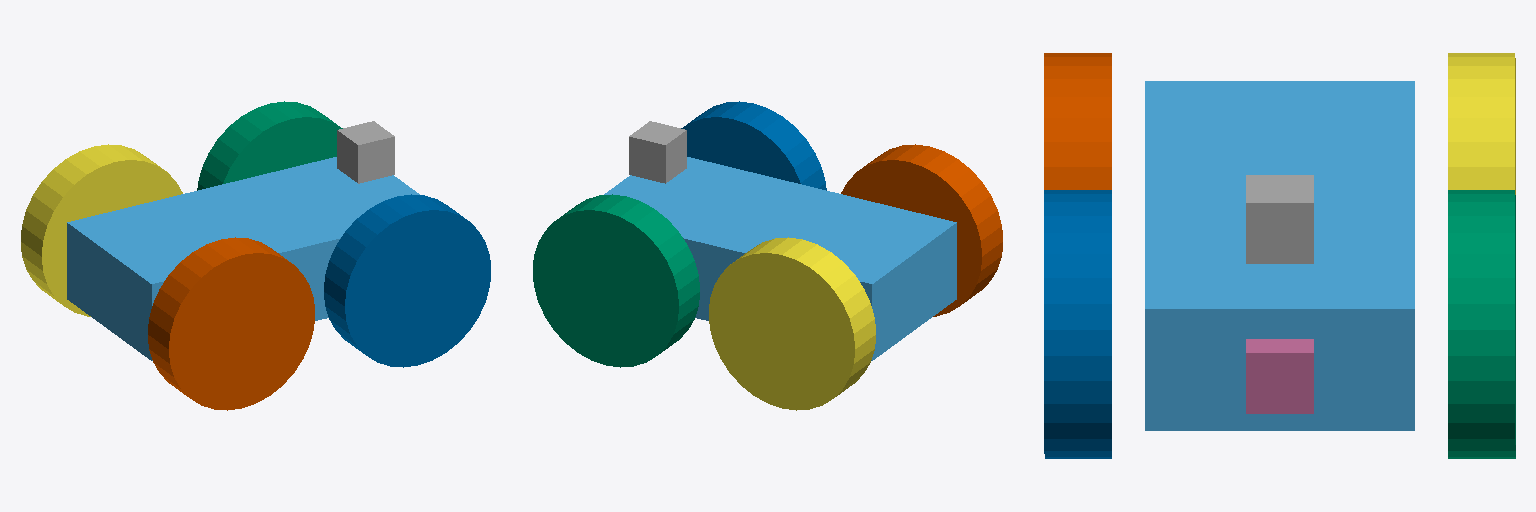
The robot description file, URDF, robot "bocbot":
<?xml version="1.0" ?>
<!-- =================================================================================== -->
<!-- |    This document was autogenerated by xacro from [local-path]/colcon_ws/src/bocbot/urdf/bocbot.urdf.xacro | -->
<!-- |    EDITING THIS FILE BY HAND IS NOT RECOMMENDED                                 | -->
<!-- =================================================================================== -->
<robot name="bocbot">
  <!--skid_steer_drive_controller-->
  <gazebo>
    <plugin filename="libgazebo_ros_diff_drive.so" name="skid_steer_drive_controller">
      <ros>
        <namespace>/bocbot</namespace>
        <argument>/cmd_vel:=mr_cme_vel</argument>
        <argument>/odom:=odom</argument>
      </ros>
      <update_rate>100.0</update_rate>
      <num_wheel_pairs>2</num_wheel_pairs>
      <odometry_frame>odom</odometry_frame>
      <left_joint>front_left_wheel_joint</left_joint>
      <left_joint>back_left_wheel_joint</left_joint>
      <wheel_separation>0.4</wheel_separation>
      <wheel_diameter>0.2</wheel_diameter>
      <right_joint>front_right_wheel_joint</right_joint>
      <right_joint>back_right_wheel_joint</right_joint>
      <wheel_separation>0.4</wheel_separation>
      <wheel_diameter>0.2</wheel_diameter>
      <robot_base_frame>robot_footprint</robot_base_frame>
      <max_wheel_torque>20</max_wheel_torque>
      <publish_odom>true</publish_odom>
      <publish_odom_tf>true</publish_odom_tf>
      <publish_wheel_tf>true</publish_wheel_tf>
      <!-- 0 is encoder, 1 is world (ground truth) -->
      <odometry_source>1</odometry_source>
    </plugin>
  </gazebo>
  <!-- camera -->
  <gazebo reference="camera">
    <sensor name="camera_sensor" type="camera">
      <update_rate>30.0</update_rate>
      <always_on>1</always_on>
      <camera name="camera">
        <horizontal_fov>1.3962634</horizontal_fov>
        <image>
          <width>800</width>
          <height>800</height>
          <format>R8G8B8</format>
        </image>
        <clip>
          <near>0.02</near>
          <far>300</far>
        </clip>
        <distortion>
          <k1>0.0</k1>
          <k2>0.0</k2>
          <k3>0.0</k3>
          <p1>0.0</p1>
          <p2>0.0</p2>
          <center>0.5 0.5</center>
        </distortion>
      </camera>
      <plugin filename="libgazebo_ros_camera.so" name="camera_controller">
        <ros>
          <namespace>/bocbot</namespace>
          <argument>camera/image_raw:=/bocbot/camera/image</argument>
          <argument>camera/camera_info:=/bocbot/camera/image/camera_info</argument>
        </ros>
        <camera_name>camera</camera_name>
        <frame_name>camera</frame_name>
        <hack_baseline>0.07</hack_baseline>
      </plugin>
    </sensor>
  </gazebo>
  <!-- hokuyo -->
  <gazebo reference="hokuyo">
    <sensor name="head_hokuyo_sensor" type="ray">
      <pose>0 0 0 0 0 0</pose>
      <visualize>true</visualize>
      <update_rate>40</update_rate>
      <ray>
        <scan>
          <horizontal>
            <samples>720</samples>
            <resolution>1</resolution>
            <min_angle>-1.570796</min_angle>
            <max_angle>1.570796</max_angle>
          </horizontal>
        </scan>
        <range>
          <min>0.10</min>
          <max>30.0</max>
          <resolution>0.01</resolution>
        </range>
        <noise>
          <type>gaussian</type>
          <!-- Noise parameters based on published spec for Hokuyo laser
                achieving "+-30mm" accuracy at range < 10m.  A mean of 0.0m and
                stddev of 0.01m will put 99.7% of samples within 0.03m of the true
                reading. -->
          <mean>0.0</mean>
          <stddev>0.01</stddev>
        </noise>
      </ray>
      <update_rate>30</update_rate>
      <plugin filename="libgazebo_ros_ray_sensor.so" name="gazebo_ros_head_hokuyo_controller">
        <ros>
          <namespace>/bocbot</namespace>
          <argument>~/out:=scan</argument>
        </ros>
        <output_type>sensor_msgs/LaserScan</output_type>
      </plugin>
    </sensor>
  </gazebo>
  <link name="robot_footprint"/>
  <joint name="robot_footprint_joint" type="fixed">
    <origin rpy="0 0 0" xyz="0 0 0"/>
    <parent link="robot_footprint"/>
    <child link="chassis"/>
  </joint>
  <link name="chassis">
    <pose>0 0 0.1 0 0 0</pose>
    <inertial>
      <mass value="15.0"/>
      <origin rpy=" 0 0 0" xyz="0.0 0 0"/>
      <inertia ixx="0.1" ixy="0" ixz="0" iyy="0.1" iyz="0" izz="0.1"/>
    </inertial>
    <collision name="collision">
      <origin rpy=" 0 0 0" xyz="0 0 0"/>
      <geometry>
        <box size=".4 .2 .1"/>
      </geometry>
    </collision>
    <visual name="chassis_visual">
      <origin rpy=" 0 0 0" xyz="0 0 0"/>
      <geometry>
        <box size=".4 .2 .1"/>
      </geometry>
    </visual>
  </link>
  <link name="front_left_wheel">
    <inertial>
      <mass value="5.0"/>
      <origin rpy=" 0 1.5707 1.5707" xyz="0.0 0 0"/>
      <inertia ixx="0.1" ixy="0" ixz="0" iyy="0.1" iyz="0" izz="0.1"/>
    </inertial>
    <visual>
      <origin rpy=" 0 1.5707 1.5707" xyz="0.0 0 0"/>
      <geometry>
        <cylinder length="0.05" radius="0.1"/>
      </geometry>
    </visual>
    <collision>
      <origin rpy=" 0 1.5707 1.5707" xyz="0.0 0 0"/>
      <geometry>
        <cylinder length="0.05" radius="0.1"/>
      </geometry>
    </collision>
  </link>
  <link name="back_left_wheel">
    <inertial>
      <mass value="5.0"/>
      <origin rpy=" 0 1.5707 1.5707" xyz="0.0 0 0"/>
      <inertia ixx="0.1" ixy="0" ixz="0" iyy="0.1" iyz="0" izz="0.1"/>
    </inertial>
    <visual>
      <origin rpy=" 0 1.5707 1.5707" xyz="0.0 0 0"/>
      <geometry>
        <cylinder length="0.05" radius="0.1"/>
      </geometry>
    </visual>
    <collision>
      <origin rpy=" 0 1.5707 1.5707" xyz="0.0 0 0"/>
      <geometry>
        <cylinder length="0.05" radius="0.1"/>
      </geometry>
    </collision>
  </link>
  <link name="front_right_wheel">
    <inertial>
      <mass value="5.0"/>
      <origin rpy=" 0 1.5707 1.5707" xyz="0.0 0 0"/>
      <inertia ixx="0.1" ixy="0" ixz="0" iyy="0.1" iyz="0" izz="0.1"/>
    </inertial>
    <visual>
      <origin rpy=" 0 1.5707 1.5707" xyz="0.0 0 0"/>
      <geometry>
        <cylinder length="0.05" radius="0.1"/>
      </geometry>
    </visual>
    <collision>
      <origin rpy=" 0 1.5707 1.5707" xyz="0.0 0 0"/>
      <geometry>
        <cylinder length="0.05" radius="0.1"/>
      </geometry>
    </collision>
  </link>
  <link name="back_right_wheel">
    <inertial>
      <mass value="5.0"/>
      <origin rpy=" 0 1.5707 1.5707" xyz="0.0 0 0"/>
      <inertia ixx="0.1" ixy="0" ixz="0" iyy="0.1" iyz="0" izz="0.1"/>
    </inertial>
    <visual>
      <origin rpy=" 0 1.5707 1.5707" xyz="0.0 0 0"/>
      <geometry>
        <cylinder length="0.05" radius="0.1"/>
      </geometry>
    </visual>
    <collision>
      <origin rpy=" 0 1.5707 1.5707" xyz="0.0 0 0"/>
      <geometry>
        <cylinder length="0.05" radius="0.1"/>
      </geometry>
    </collision>
  </link>
  <link name="camera">
    <inertial>
      <mass value="0.1"/>
      <origin rpy=" 0 0 0" xyz="0.05 0.05 0.05"/>
      <inertia ixx="1e-6" ixy="0" ixz="0" iyy="1e-6" iyz="0" izz="1e-6"/>
    </inertial>
    <visual name="camera_visual">
      <origin rpy="0 0 0" xyz="0 0 0"/>
      <geometry>
        <box size="0.05 0.05 0.05"/>
      </geometry>
    </visual>
    <collision name="camera_colision">
      <origin rpy="0 0 0" xyz="0 0 0"/>
      <geometry>
        <box size="0.05 0.05 0.05"/>
      </geometry>
    </collision>
  </link>
  <link name="hokuyo">
    <inertial>
      <mass value="1e-5"/>
      <origin rpy=" 0 0 0" xyz="0 0 0"/>
      <inertia ixx="1e-6" ixy="0" ixz="0" iyy="1e-6" iyz="0" izz="1e-6"/>
    </inertial>
    <visual name="hokuyo_visual">
      <origin rpy="0 0 0" xyz="0 0 0"/>
      <geometry>
        <!-- <mesh filename="$(find bocbot)/meshes/hokuyo.dae"/> -->
        <box size="0.05 0.05 0.05"/>
      </geometry>
    </visual>
    <collision name="hokuyo_colision">
      <origin rpy="0 0 0" xyz="0 0 0"/>
      <geometry>
        <box size="0.1 0.1 0.1"/>
      </geometry>
    </collision>
  </link>
  <joint name="front_left_wheel_joint" type="continuous">
    <origin rpy="0 0 0" xyz="0.12 0.15 0"/>
    <child link="front_left_wheel"/>
    <parent link="chassis"/>
    <axis rpy="0 0 0" xyz="0 1 0"/>
    <limit effort="10000" velocity="1000"/>
    <dynamics damping="1.0" friction="1.0"/>
  </joint>
  <joint name="front_right_wheel_joint" type="continuous">
    <origin rpy="0 0 0" xyz="0.12 -0.15 0"/>
    <child link="front_right_wheel"/>
    <parent link="chassis"/>
    <axis rpy="0 0 0" xyz="0 1 0"/>
    <limit effort="10000" velocity="1000"/>
    <dynamics damping="1.0" friction="1.0"/>
  </joint>
  <joint name="back_left_wheel_joint" type="continuous">
    <origin rpy="0 0 0" xyz="-0.12 0.15 0"/>
    <child link="back_left_wheel"/>
    <parent link="chassis"/>
    <axis rpy="0 0 0" xyz="0 1 0"/>
    <limit effort="10000" velocity="1000"/>
    <dynamics damping="1.0" friction="1.0"/>
  </joint>
  <joint name="back_right_wheel_joint" type="continuous">
    <origin rpy="0 0 0" xyz="-0.12 -0.15 0"/>
    <child link="back_right_wheel"/>
    <parent link="chassis"/>
    <axis rpy="0 0 0" xyz="0 1 0"/>
    <limit effort="10000" velocity="1000"/>
    <dynamics damping="1.0" friction="1.0"/>
  </joint>
  <joint name="camera_joint" type="fixed">
    <origin rpy="0 0 0" xyz="0.2 0 0"/>
    <child link="camera"/>
    <parent link="chassis"/>
    <axis rpy="0 0 0" xyz="0 1 0"/>
  </joint>
  <joint name="hokuyo_joint" type="fixed">
    <origin rpy="0 0 0" xyz="0.15 0 0.1"/>
    <child link="hokuyo"/>
    <parent link="chassis"/>
    <axis rpy="0 0 0" xyz="0 1 0"/>
  </joint>
  <gazebo reference="chassis">
    <material>Gazebo/Blue</material>
  </gazebo>
  <gazebo reference="camera">
    <material>Gazebo/Red</material>
  </gazebo>
  <gazebo reference="hokuyo">
    <material>Gazebo/Black</material>
  </gazebo>
</robot>

--- What the picture shows (computed from the rendered views, not written in the file) ---
The picture shows the robot from 3 angles, left to right: view 1: azimuth 30°, elevation 25°; view 2: azimuth 150°, elevation 25°; view 3: azimuth 270°, elevation 25°; orthographic projection.
Robot: bocbot — 8 links, 7 joints (4 continuous, 3 fixed); root link robot_footprint; default pose: all joints at 0.
Visible links, largest first — view 1: chassis, back_right_wheel, front_right_wheel, back_left_wheel, front_left_wheel, hokuyo; view 2: chassis, back_left_wheel, front_left_wheel, back_right_wheel, front_right_wheel, hokuyo; view 3: chassis, front_left_wheel, front_right_wheel, back_left_wheel, back_right_wheel, hokuyo, camera.
Boxes of the visible links, x1,y1,x2,y2 form: chassis: (67,157,419,360); back_right_wheel: (148,237,314,410); front_right_wheel: (324,194,490,367); back_left_wheel: (21,144,182,316); front_left_wheel: (197,101,342,190); hokuyo: (337,121,394,183); chassis: (604,157,956,360); back_left_wheel: (709,237,875,410); front_left_wheel: (533,194,699,367); back_right_wheel: (841,144,1002,316); front_right_wheel: (681,101,826,190); hokuyo: (629,121,686,183); chassis: (1145,81,1414,430); front_left_wheel: (1448,190,1515,458); front_right_wheel: (1044,190,1111,458); back_left_wheel: (1448,53,1515,194); back_right_wheel: (1044,53,1111,189); hokuyo: (1246,175,1313,263); camera: (1246,339,1313,413).
Size in the robot's own frame: 0.445 by 0.35 by 0.225 metres.
Geometry: primitives only (box / cylinder / sphere), no mesh files.
